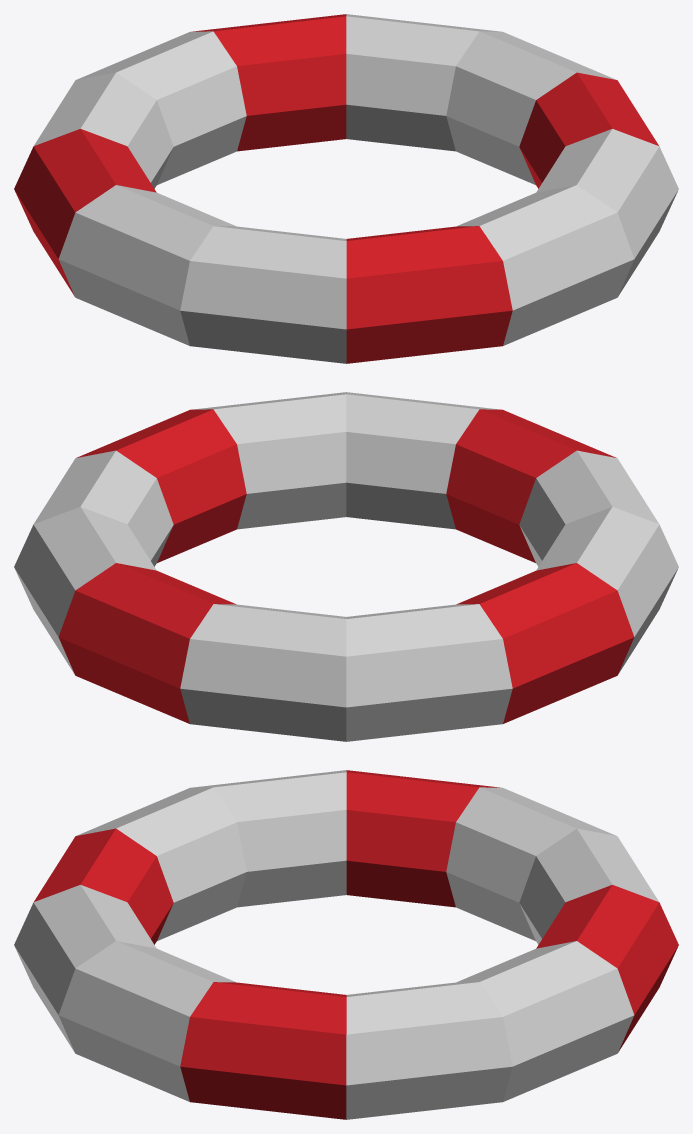
File: Buoy_3.fbx
3 renders of one model, top to bottom at view 1: azimuth 30°, elevation 25°; view 2: azimuth 150°, elevation 25°; view 3: azimuth 270°, elevation 25°, orthographic.
Parts seen in each view (by area): view 1: Buoy; view 2: Buoy; view 3: Buoy.
Boxes of the visible parts, left/top/right/bottom form: Buoy: left=14, top=14, right=678, bottom=363; Buoy: left=14, top=392, right=678, bottom=741; Buoy: left=14, top=770, right=678, bottom=1119.
Bounding box in the file's own units: 100 × 20 × 100.
